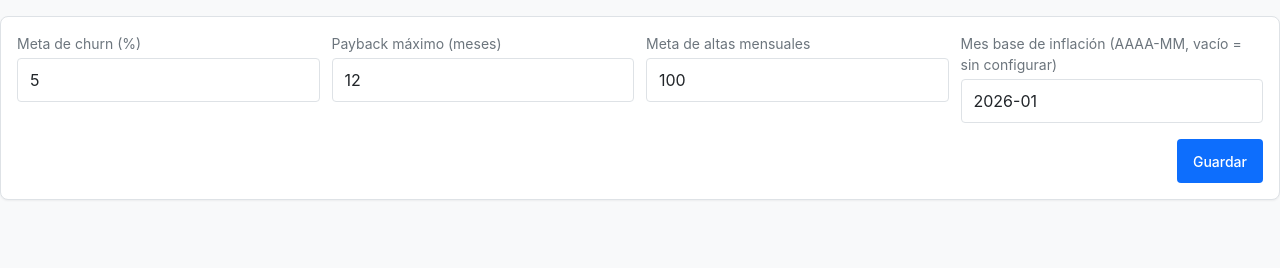
Test: TargetsBody › rejects churnTargetPct out of 0-100 client-side, mirroring the BE rule
Step 1. Replace the text in the number field labelled "Meta de churn (%)" with "150" → point(168, 80), box [17,58,320,102]
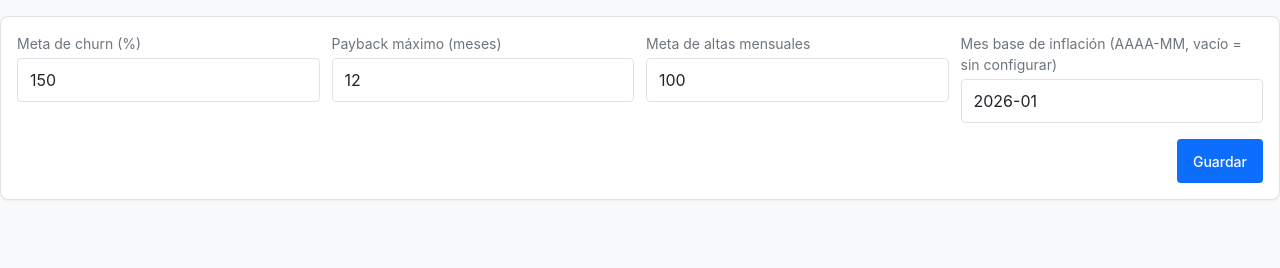
Step 2. Click the button "Guardar" → point(1220, 161), box [1177,139,1263,183]
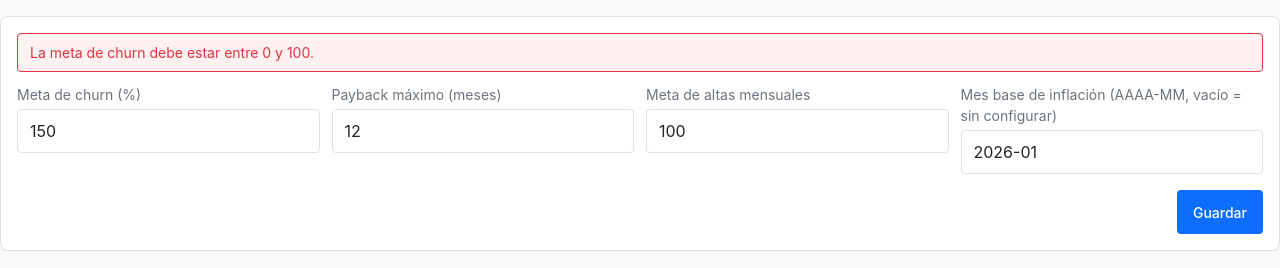
Expected: the message "La meta de churn debe estar entre 0 y 100." is shown, [17,33,1263,72]
